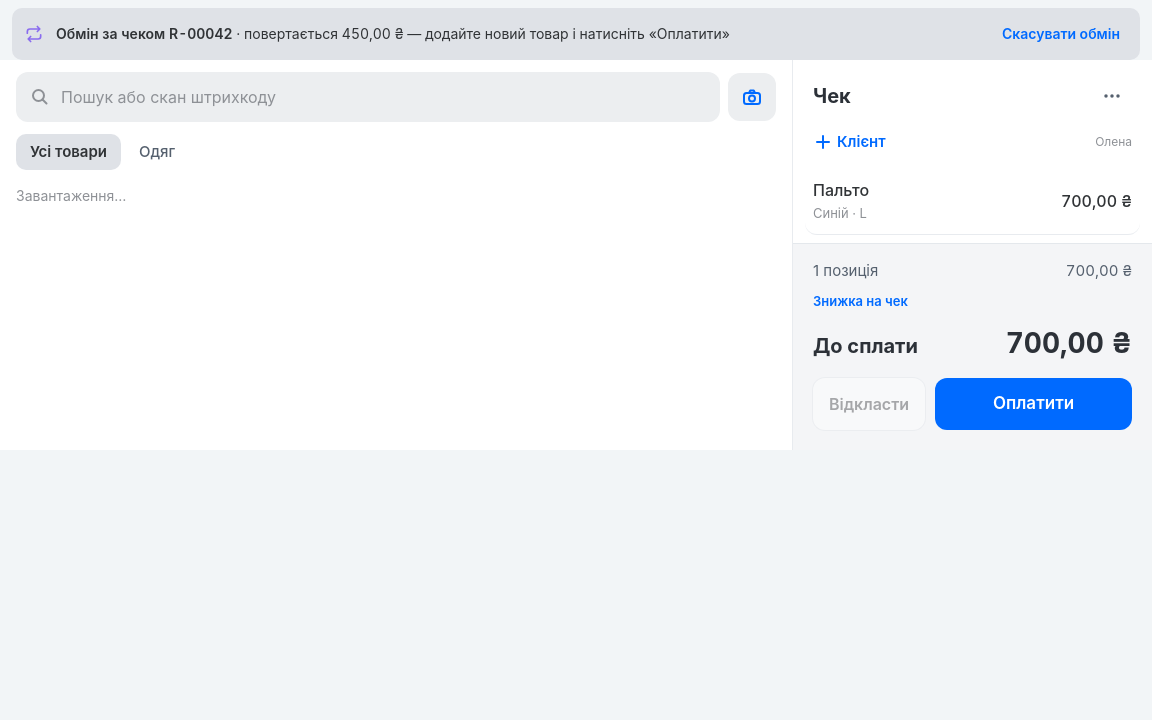
Test: RegisterPage — the sale half of an exchange › pays through the exchange checkout: both halves in one request, then the exchange’s own success screen
Expected: the element with test id "exchange-strip" is shown, top-left (12, 8), bottom-right (1140, 60)
Click the button "Оплатити".
click(1034, 404)  # box top-left (935, 378), bottom-right (1132, 430)
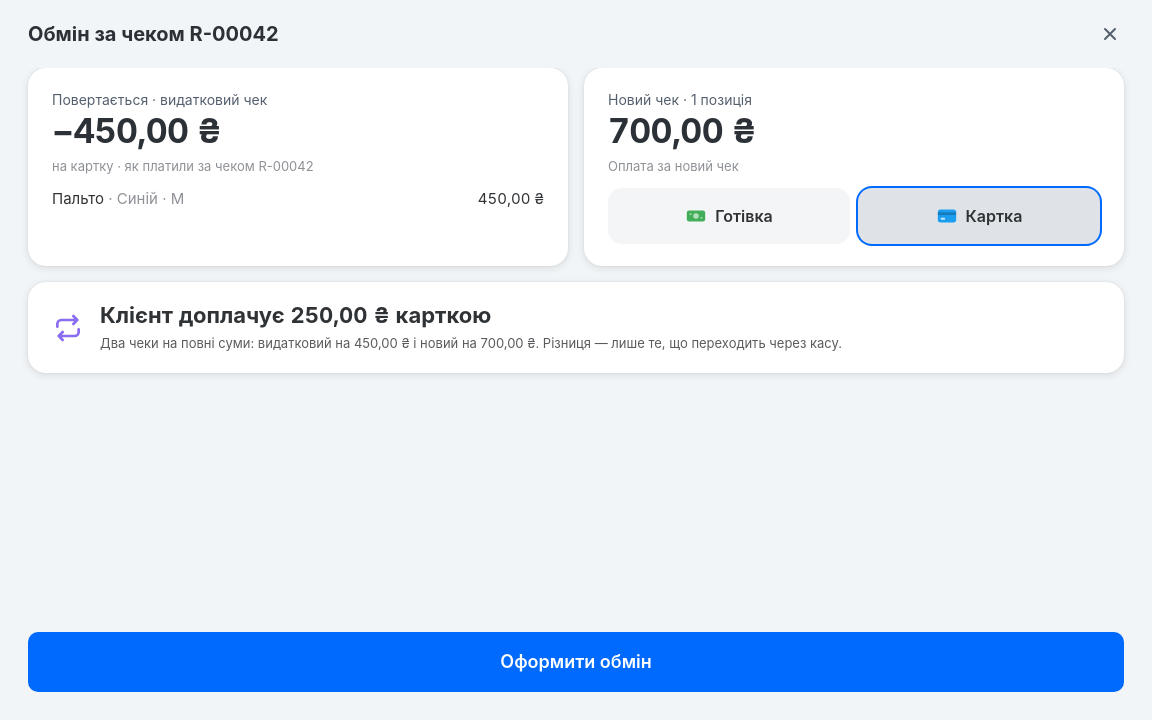
Expected: the element with test id "exchange-difference" shows "Клієнт доплачує 250,00 ₴ карткою", top-left (100, 302), bottom-right (491, 328)
Click the button "Оформити обмін".
click(576, 662)  # box top-left (28, 632), bottom-right (1124, 692)
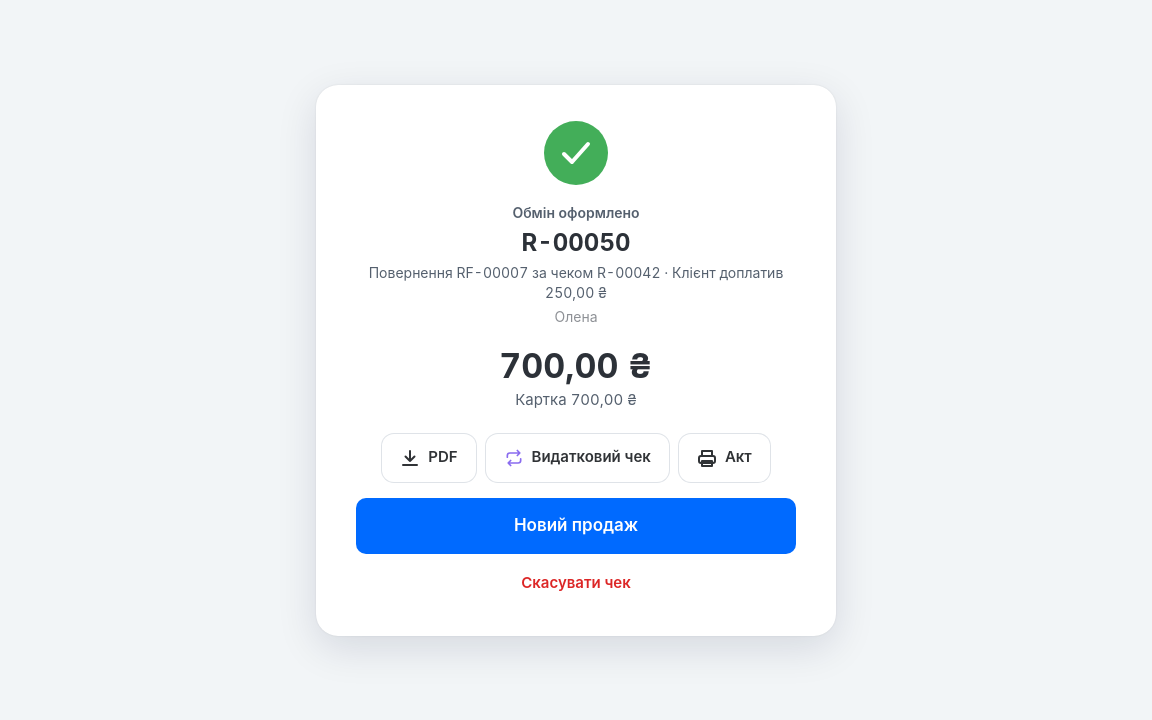
Expected: the text "Обмін оформлено" is shown, top-left (512, 202), bottom-right (640, 222)
Expected: the heading "R-00050" is shown, top-left (522, 226), bottom-right (630, 258)
Expected: the text with test id "exchange-summary" reads "Повернення RF-00007 за чеком R-00042 · Клієнт доплатив 250,00 ₴", top-left (356, 262), bottom-right (796, 302)
